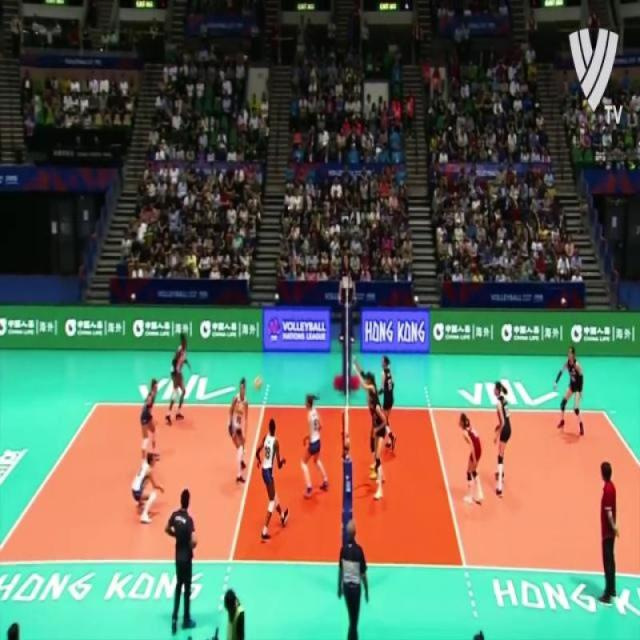volleyball: (254, 376, 262, 389)
